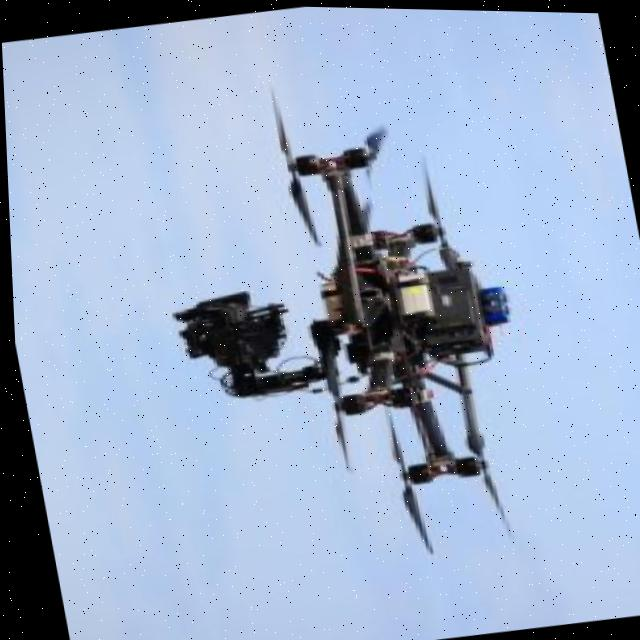drones: (145, 41, 568, 592)
